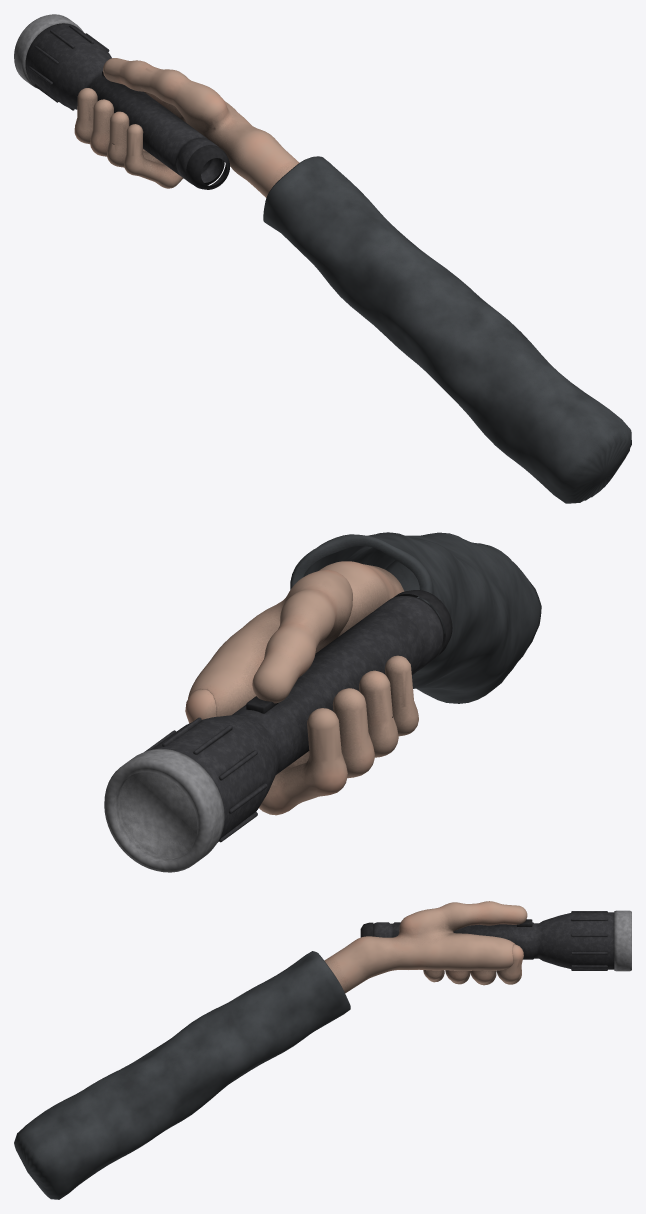
File: VM_LanternaMao.glb
3 renders of one model, top to bottom at view 1: azimuth 30°, elevation 25°; view 2: azimuth 150°, elevation 25°; view 3: azimuth 270°, elevation 25°, orthographic. The views are drawn at different scales.
Visible parts, largest first — view 1: VM_Corpo; view 2: VM_Corpo; view 3: VM_Corpo.
Boxes of the visible parts, x1,y1,x2,y2 form: VM_Corpo: (14, 14, 631, 503); VM_Corpo: (104, 532, 541, 872); VM_Corpo: (14, 901, 631, 1199).
Bounding box in the file's own units: 0.9605 × 0.9896 × 2.41.
2 materials, 1 textured.
